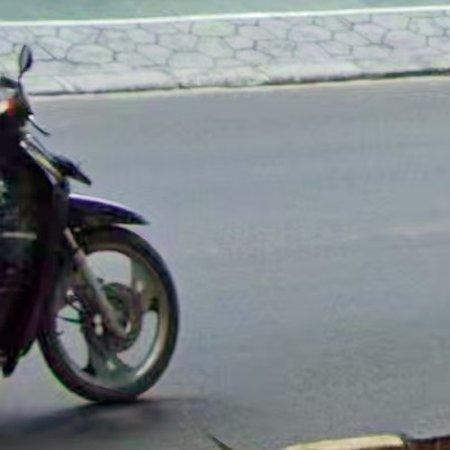motorcycles: (0, 45, 178, 402)
